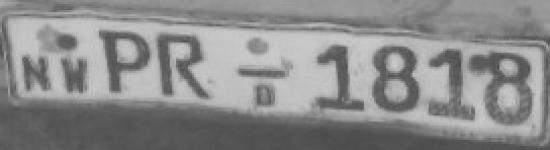-: (237, 62, 290, 83)
1: (310, 41, 368, 116), (425, 46, 480, 124)
8: (485, 48, 535, 127), (370, 43, 422, 113)
N: (16, 48, 55, 95)
P: (94, 22, 154, 99)
R: (156, 28, 217, 102)
W: (58, 53, 92, 95)
